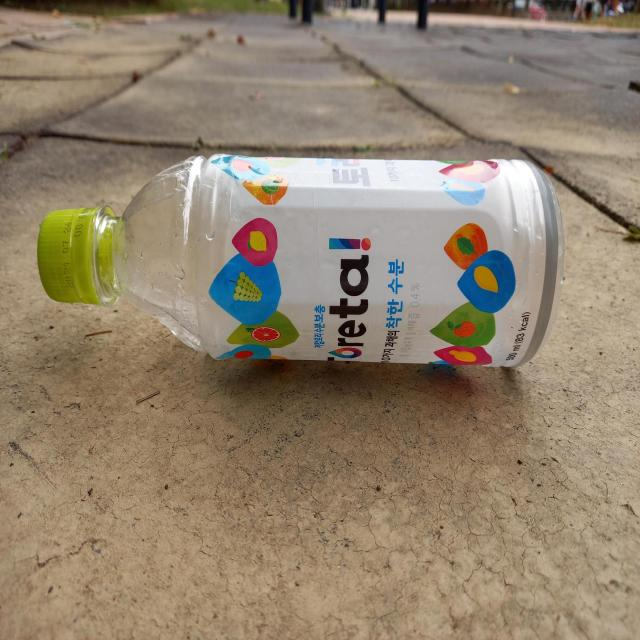plastic: (36, 153, 565, 367)
